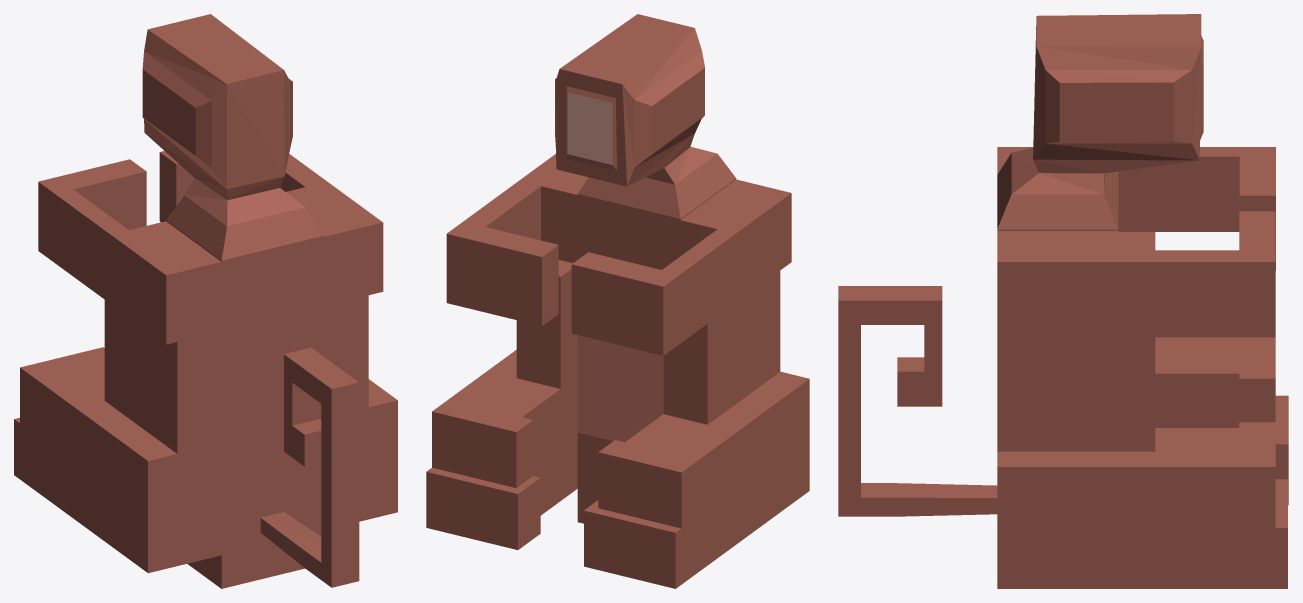
The model's file is monkey.obj.
The picture shows the model from 3 angles, left to right: view 1: azimuth 30°, elevation 25°; view 2: azimuth 150°, elevation 25°; view 3: azimuth 270°, elevation 25°; orthographic projection. The views are drawn at different scales.
Visible parts, largest first — view 1: Cube.001; view 2: Cube.001; view 3: Cube.001.
Part boxes in pixels (left/top/right/bottom): Cube.001: left=14, top=14, right=397, bottom=588; Cube.001: left=426, top=14, right=809, bottom=588; Cube.001: left=838, top=14, right=1288, bottom=588.
Bounding box in the file's own units: 1.17 × 2.17 × 1.67.
Materials: 1 (1 with a texture image).
